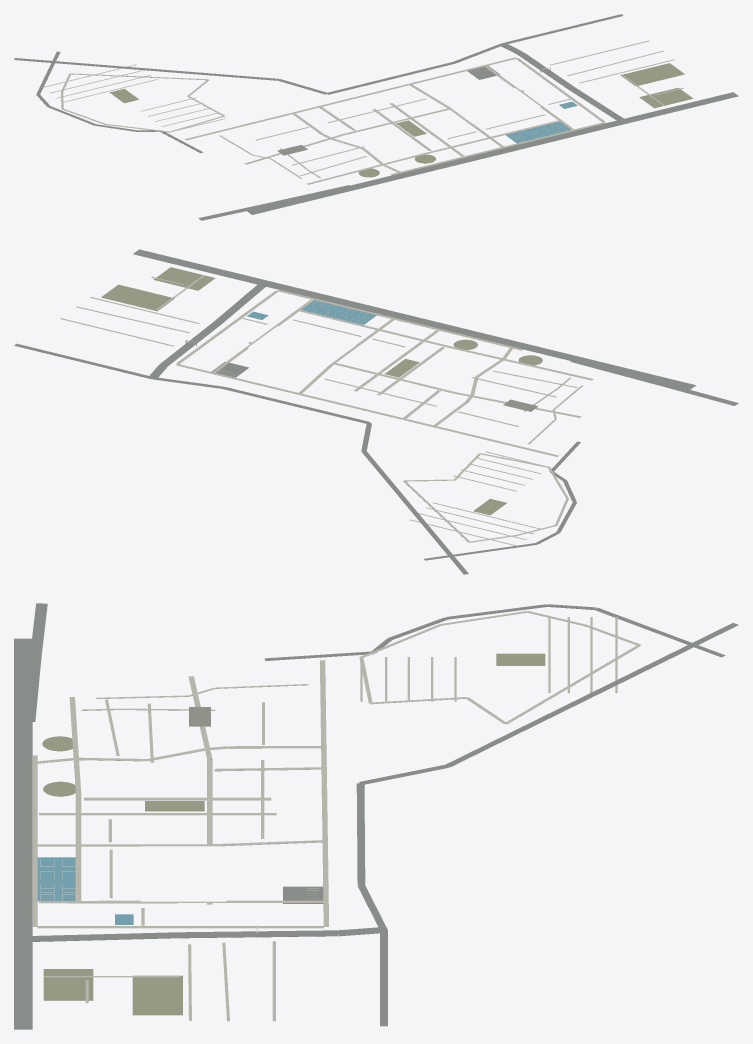
The model's file is 00-guanghua-merged-photo.glb.
3 renders of one model, top to bottom at view 1: azimuth 30°, elevation 25°; view 2: azimuth 150°, elevation 25°; view 3: azimuth 270°, elevation 25°, orthographic. The views are drawn at different scales.
Parts seen in each view (by area): view 1: 邯郸路.001, Campus east west road.008, 东区草坪.001, 北侧边界道路.005, 室外球场.001, 新闻学院庭院.001, Campus east west road.015, 国定路.004, 北侧边界道路.007, 国定路.003, 北侧边界道路.009; view 2: 邯郸路.001, 东区草坪.001, Campus east west road.008, 室外球场.001, 北侧边界道路.005, 新闻学院庭院.001, Campus east west road.015; view 3: 邯郸路.001, 东区草坪.001, 室外球场.001, 北侧边界道路.005, Campus east west road.008, 新闻学院庭院.001, 国定路.004, 国定路.003, Campus east west road.015, Campus north south road.023, Campus north south road.022, 北侧边界道路.007 (+4 smaller).
Boxes of the visible parts, bbox=[...] form: 邯郸路.001: bbox=[247, 92, 738, 214]; Campus east west road.008: bbox=[185, 57, 516, 140]; 东区草坪.001: bbox=[620, 63, 684, 86]; 北侧边界道路.005: bbox=[14, 58, 279, 80]; 室外球场.001: bbox=[506, 121, 571, 143]; 新闻学院庭院.001: bbox=[639, 87, 693, 108]; Campus east west road.015: bbox=[390, 122, 605, 175]; 国定路.004: bbox=[517, 52, 574, 89]; 北侧边界道路.007: bbox=[327, 62, 454, 94]; 国定路.003: bbox=[568, 87, 626, 122]; 北侧边界道路.009: bbox=[502, 14, 623, 43]; 邯郸路.001: bbox=[133, 249, 695, 389]; 东区草坪.001: bbox=[101, 284, 174, 311]; Campus east west road.008: bbox=[176, 364, 558, 456]; 室外球场.001: bbox=[301, 300, 376, 324]; 北侧边界道路.005: bbox=[361, 451, 468, 574]; 新闻学院庭院.001: bbox=[153, 267, 215, 290]; Campus east west road.015: bbox=[277, 289, 523, 350]; 邯郸路.001: bbox=[14, 638, 32, 1029]; 东区草坪.001: bbox=[132, 975, 182, 1015]; 室外球场.001: bbox=[37, 857, 75, 901]; 北侧边界道路.005: bbox=[445, 623, 738, 767]; Campus east west road.008: bbox=[320, 660, 328, 926]; 新闻学院庭院.001: bbox=[43, 969, 93, 1000]; 国定路.004: bbox=[177, 930, 338, 938]; 国定路.003: bbox=[23, 932, 177, 941]; Campus east west road.015: bbox=[32, 755, 37, 926]; Campus north south road.023: bbox=[37, 926, 323, 928]; Campus north south road.022: bbox=[39, 900, 326, 903]; 北侧边界道路.007: bbox=[356, 783, 365, 885].
Size of what is drawn, in the model's own units: 1038 by 5.46 by 746.
10 materials, 1 textured.
